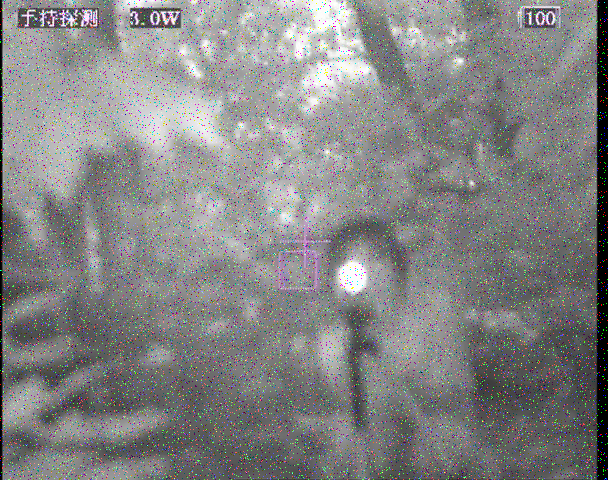my: (335, 259, 369, 295)
